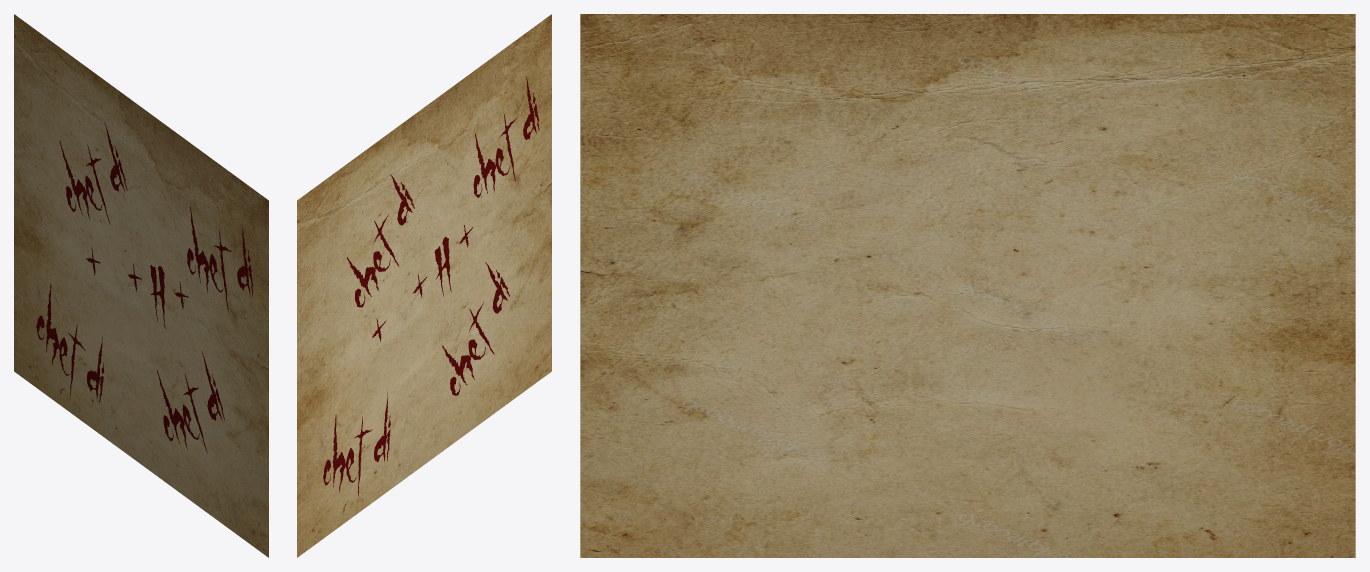
File: Giay12.fbx
The picture shows the model from 3 angles, left to right: view 1: azimuth 30°, elevation 25°; view 2: azimuth 150°, elevation 25°; view 3: azimuth 270°, elevation 25°; orthographic projection. The views are drawn at different scales.
Visible parts, largest first — view 1: Plane, Text.002, Text.003, Text.004, Text.001, Text; view 2: Plane, Text.001, Text.002, Text.003, Text.004, Text; view 3: Plane.
Boxes of the visible parts, x1=… form: Plane: x1=14, y1=14, x2=268, y2=557; Text.002: x1=187, y1=206, x2=253, y2=310; Text.003: x1=59, y1=122, x2=127, y2=224; Text.004: x1=157, y1=351, x2=224, y2=453; Text.001: x1=36, y1=284, x2=104, y2=403; Text: x1=86, y1=247, x2=188, y2=328; Plane: x1=297, y1=14, x2=551, y2=557; Text.001: x1=323, y1=392, x2=390, y2=496; Text.002: x1=473, y1=76, x2=539, y2=197; Text.003: x1=347, y1=174, x2=414, y2=307; Text.004: x1=442, y1=262, x2=509, y2=395; Text: x1=372, y1=225, x2=472, y2=341; Plane: x1=580, y1=14, x2=1355, y2=557.
Size of the model in its own units: 0.1981 by 21.6 by 27.9.
